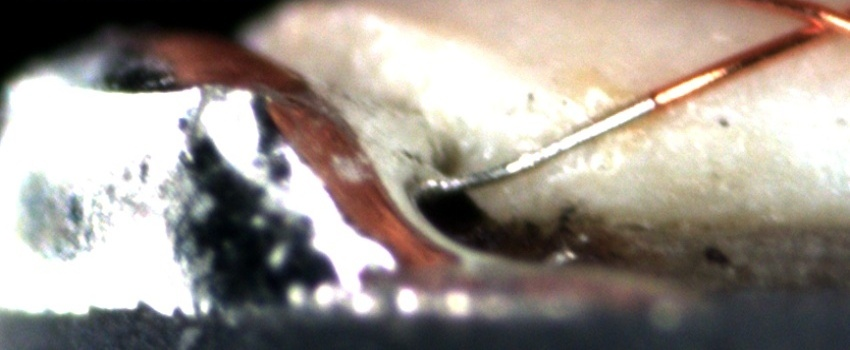CL: (776, 1, 849, 46)
TS: (448, 98, 660, 193)
